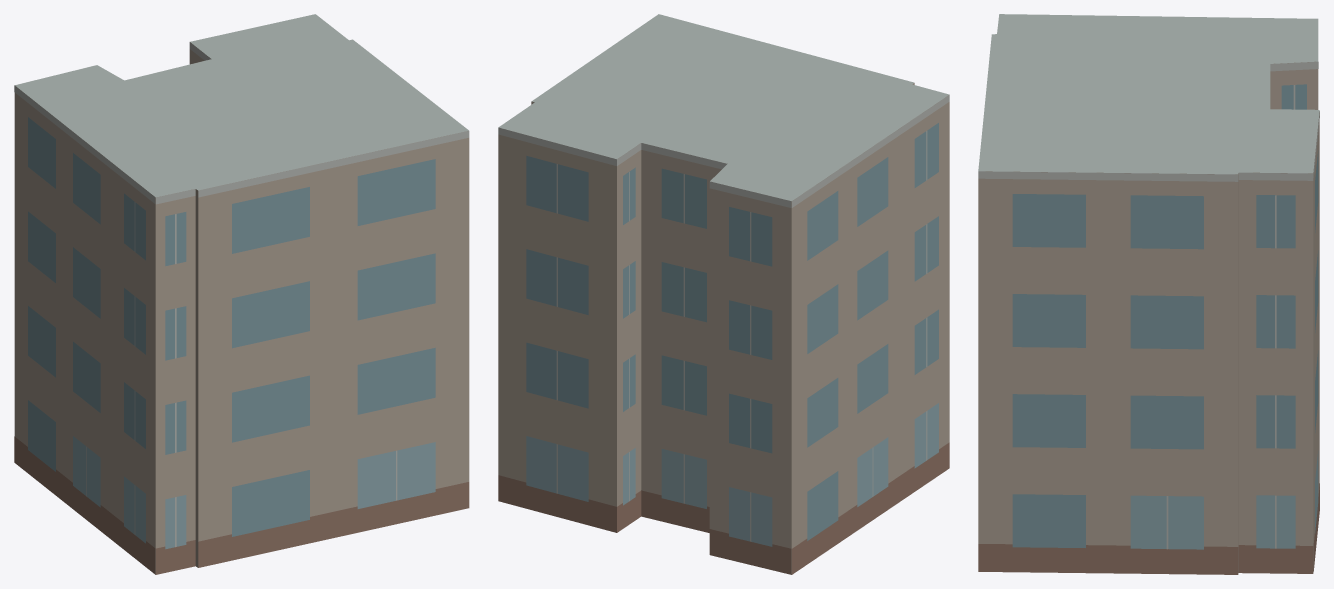
File: survey-upis-32653421.glb
The picture shows the model from 3 angles, left to right: view 1: azimuth 30°, elevation 25°; view 2: azimuth 150°, elevation 25°; view 3: azimuth 270°, elevation 25°; orthographic projection. The views are drawn at different scales.
Visible parts, largest first — view 1: survey-upis-32653421.tmp; view 2: survey-upis-32653421.tmp; view 3: survey-upis-32653421.tmp.
Part boxes in pixels (<box>): survey-upis-32653421.tmp: <box>14,14,469,574</box>; survey-upis-32653421.tmp: <box>498,14,949,574</box>; survey-upis-32653421.tmp: <box>978,14,1319,574</box>.
Bounding box in the file's own units: 11.26 × 13.1 × 10.14.
